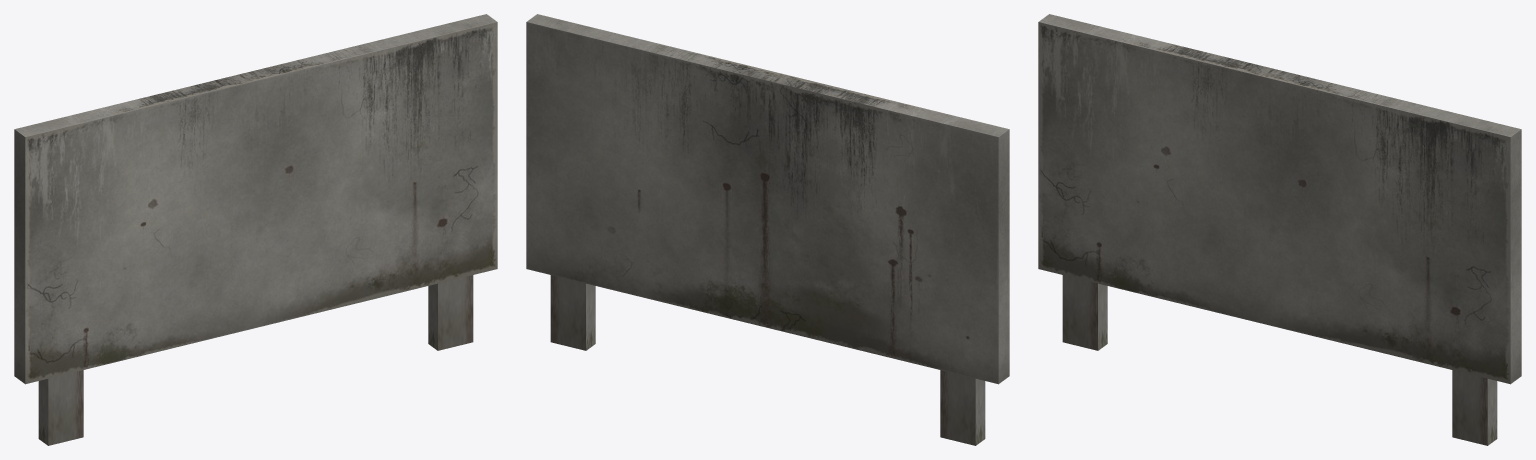
The model's file is fence_po2_B_lod2_web.glb.
The picture shows the model from 3 angles, left to right: view 1: azimuth 30°, elevation 25°; view 2: azimuth 150°, elevation 25°; view 3: azimuth 330°, elevation 25°; orthographic projection.
Visible parts, largest first — view 1: FencePO2_B_lod2; view 2: FencePO2_B_lod2; view 3: FencePO2_B_lod2.
Boxes of the visible parts, left/top/right/bottom form: FencePO2_B_lod2: left=14, top=14, right=497, bottom=445; FencePO2_B_lod2: left=526, top=14, right=1009, bottom=445; FencePO2_B_lod2: left=1038, top=14, right=1521, bottom=445.
Bounding box in the file's own units: 4 × 2.55 × 0.1599.
1 material, 1 textured.
